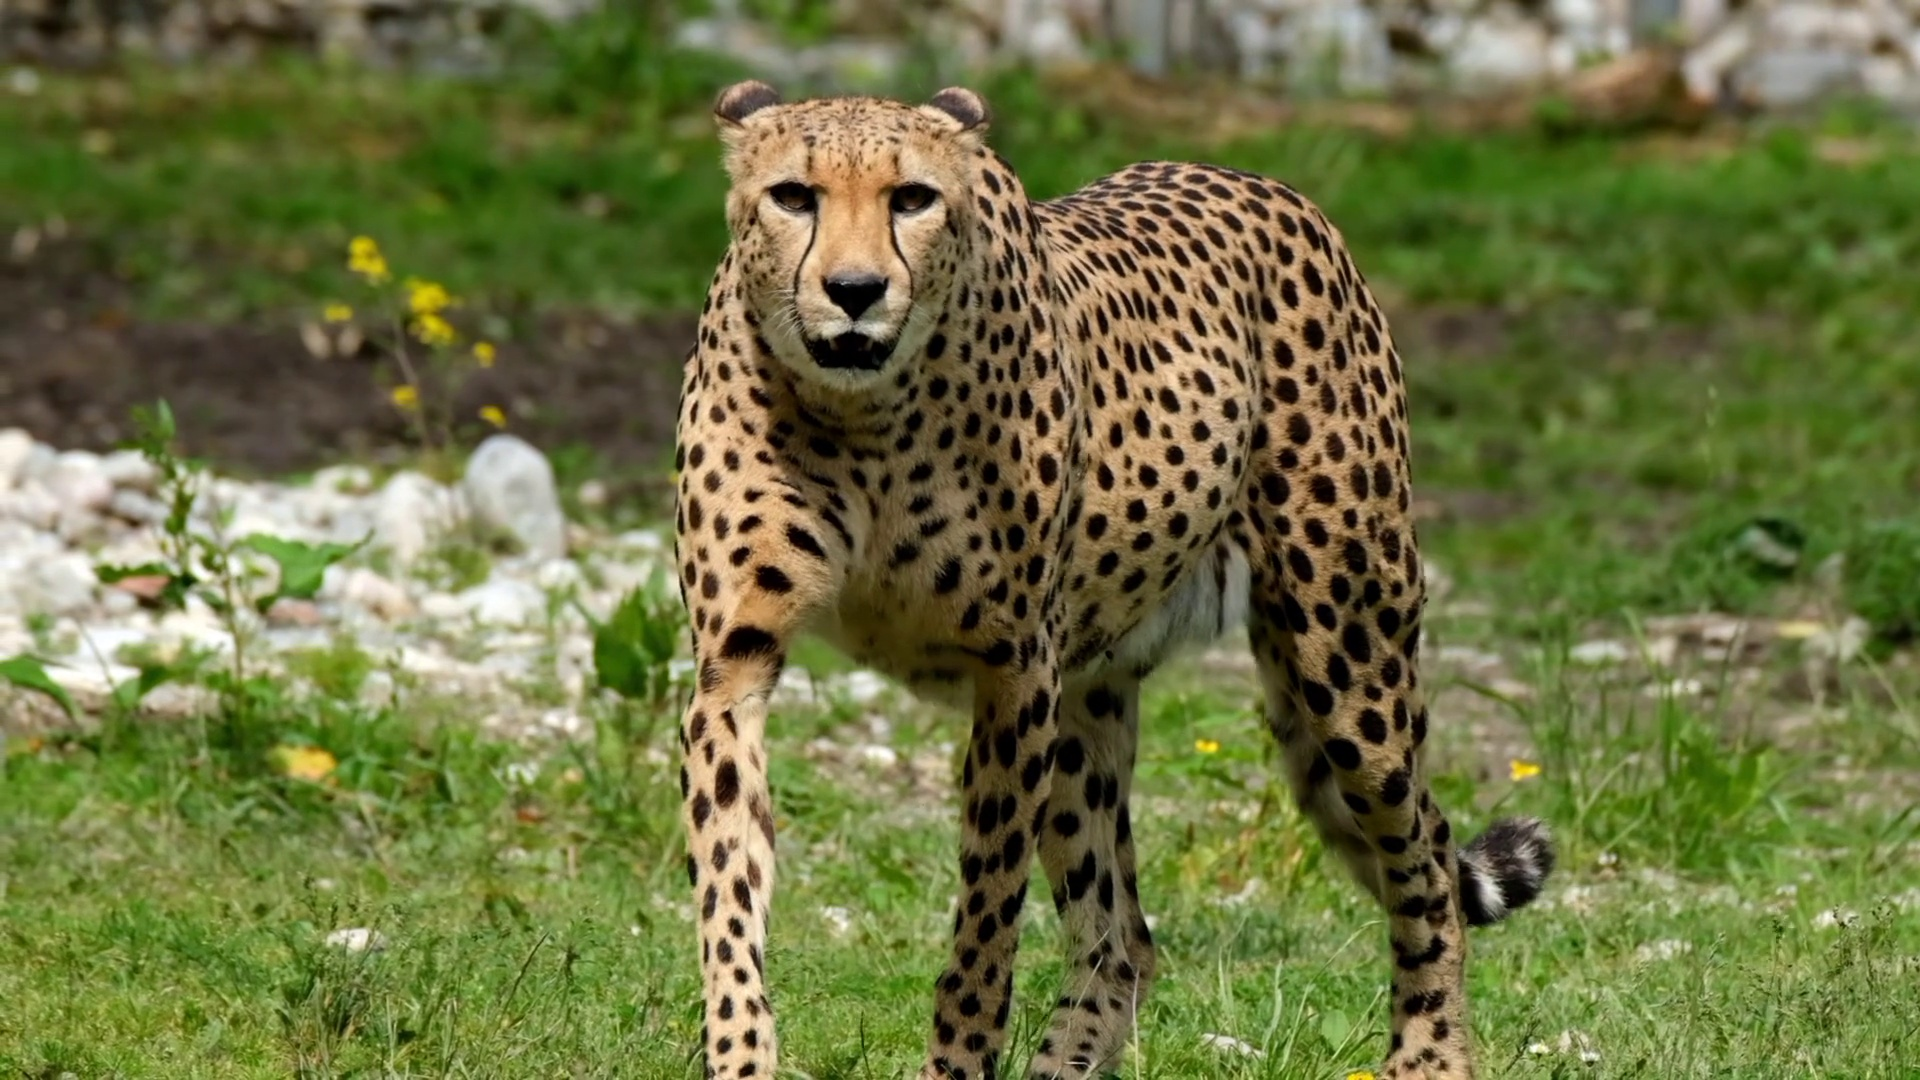Cheetah: (662, 79, 1557, 1080)
